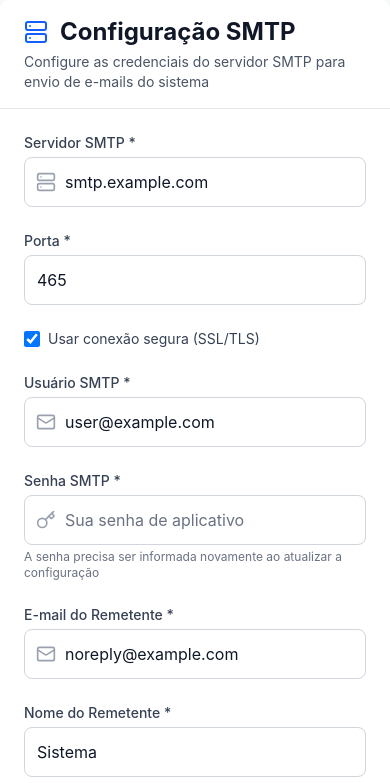
Test: SmtpConfig page › shows error from test connection
Type "pw" into the password field labelled "Senha SMTP *". click: (195, 520)
box: [24, 495, 366, 545]
(page scrolled)
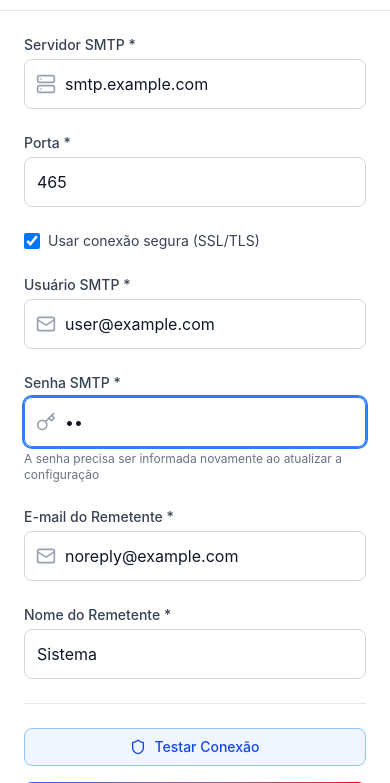
Click the button "Testar Conexão". click: (195, 747)
box: [24, 728, 366, 766]
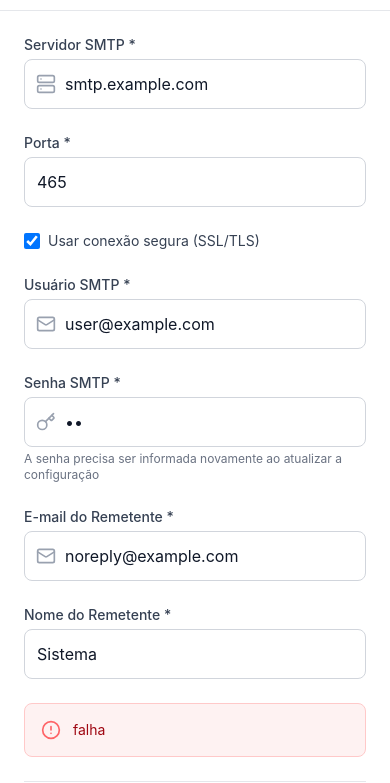
expect the text "falha" is shown: met, box [73, 720, 105, 740]
